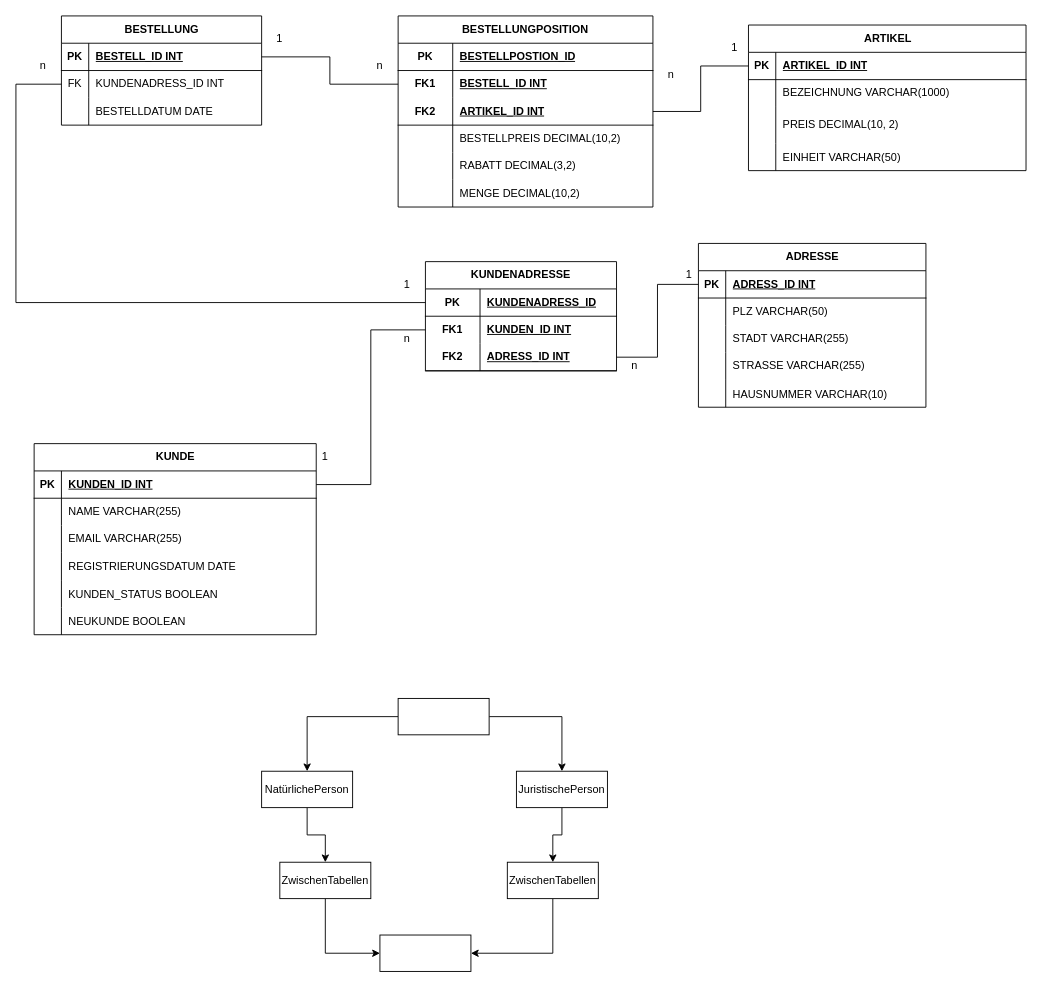
Some shapes in this 1042 by 987 pixel diagram are drawn without their labels. Here are the shapes that lost their labels. From the top down, the centre of each, then its label:
At pixel 443 716: "Schlüsseltabelle".
At pixel 425 952: "Konto".
